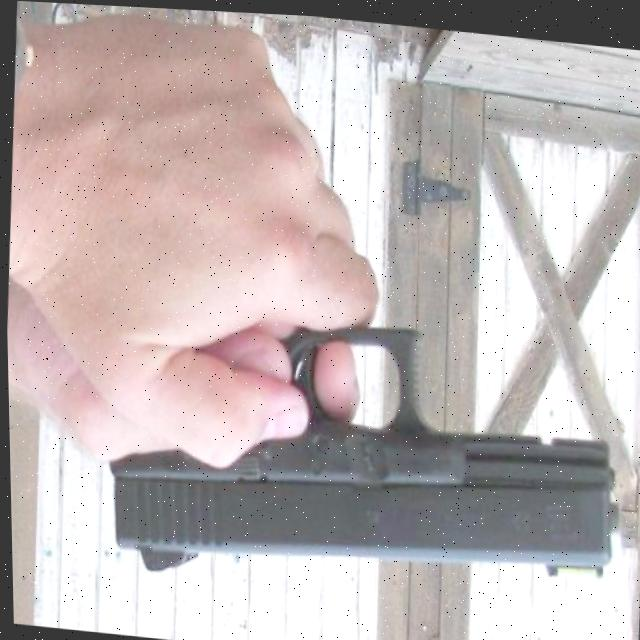pistol: (100, 292, 631, 615)
